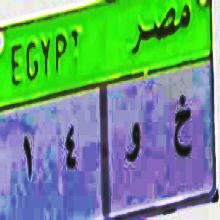1: (18, 130, 34, 186)
4: (61, 121, 81, 176)
khaa: (171, 93, 193, 165)
waw: (126, 117, 142, 173)
